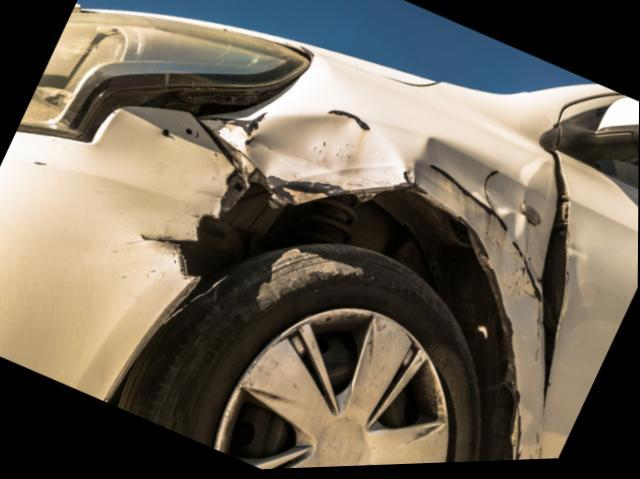crack: (140, 233, 197, 276)
dent: (246, 116, 537, 286)
dislocated part: (529, 158, 579, 463)
